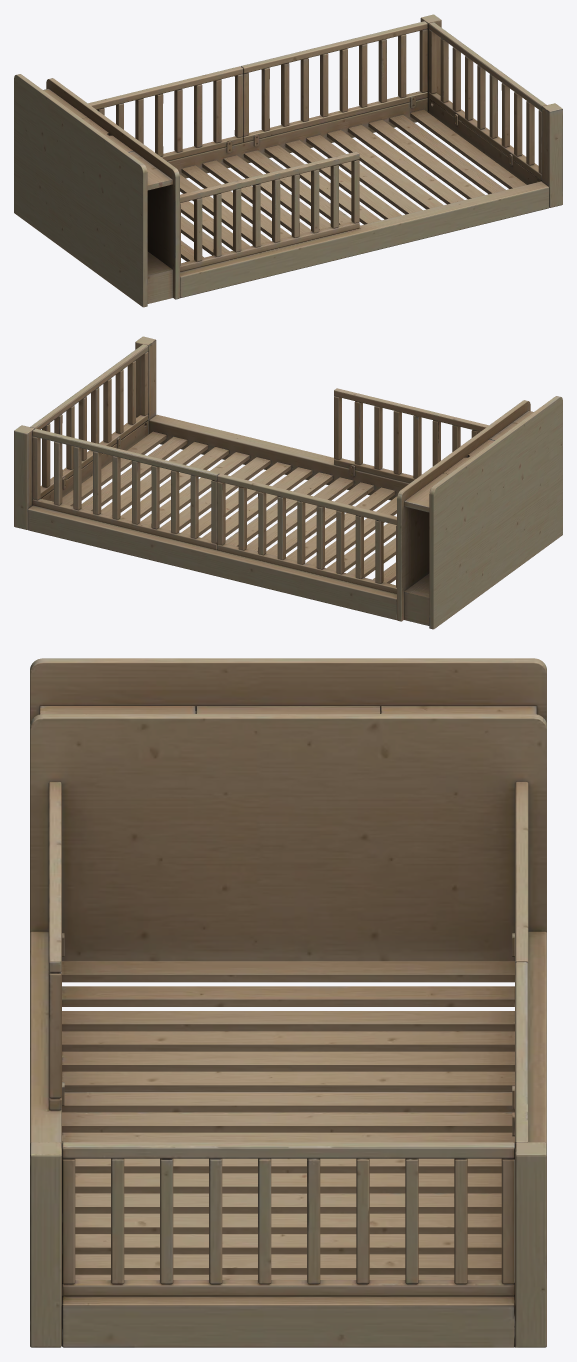
3 views of the same model, one above another, from view 1: azimuth 30°, elevation 25°; view 2: azimuth 150°, elevation 25°; view 3: azimuth 270°, elevation 25° (orthographic). The views are drawn at different scales.
Parts seen in each view (by area): view 1: 160x80; view 2: 160x80; view 3: 160x80.
Boxes of the visible parts, x1=… form: 160x80: x1=14, y1=14, x2=562, y2=307; 160x80: x1=14, y1=336, x2=562, y2=629; 160x80: x1=30, y1=658, x2=546, y2=1347.
Bounding box in the file's own units: 1.82 × 0.58 × 0.97.
Materials: 1 (1 with a texture image).
